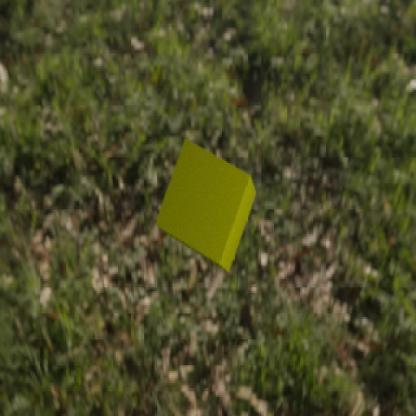cube: (154, 137, 257, 272)
